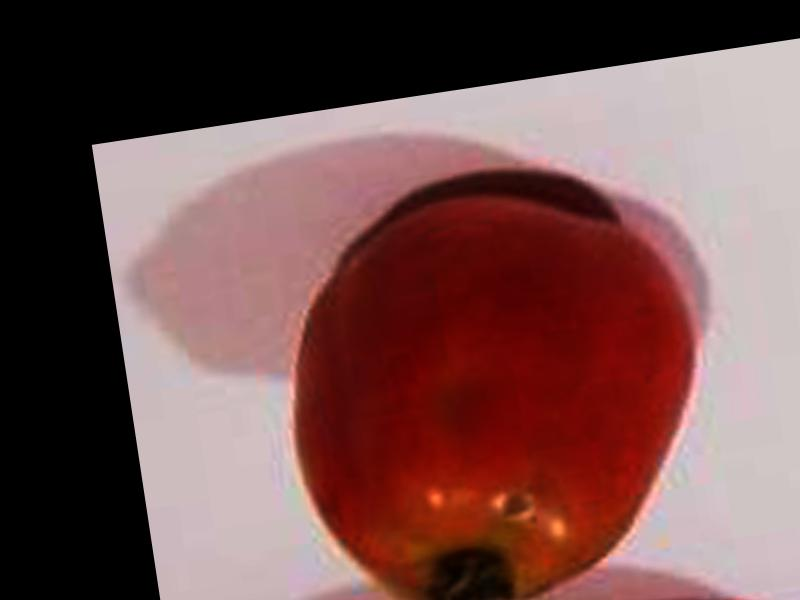Tomato: (267, 174, 727, 600)
